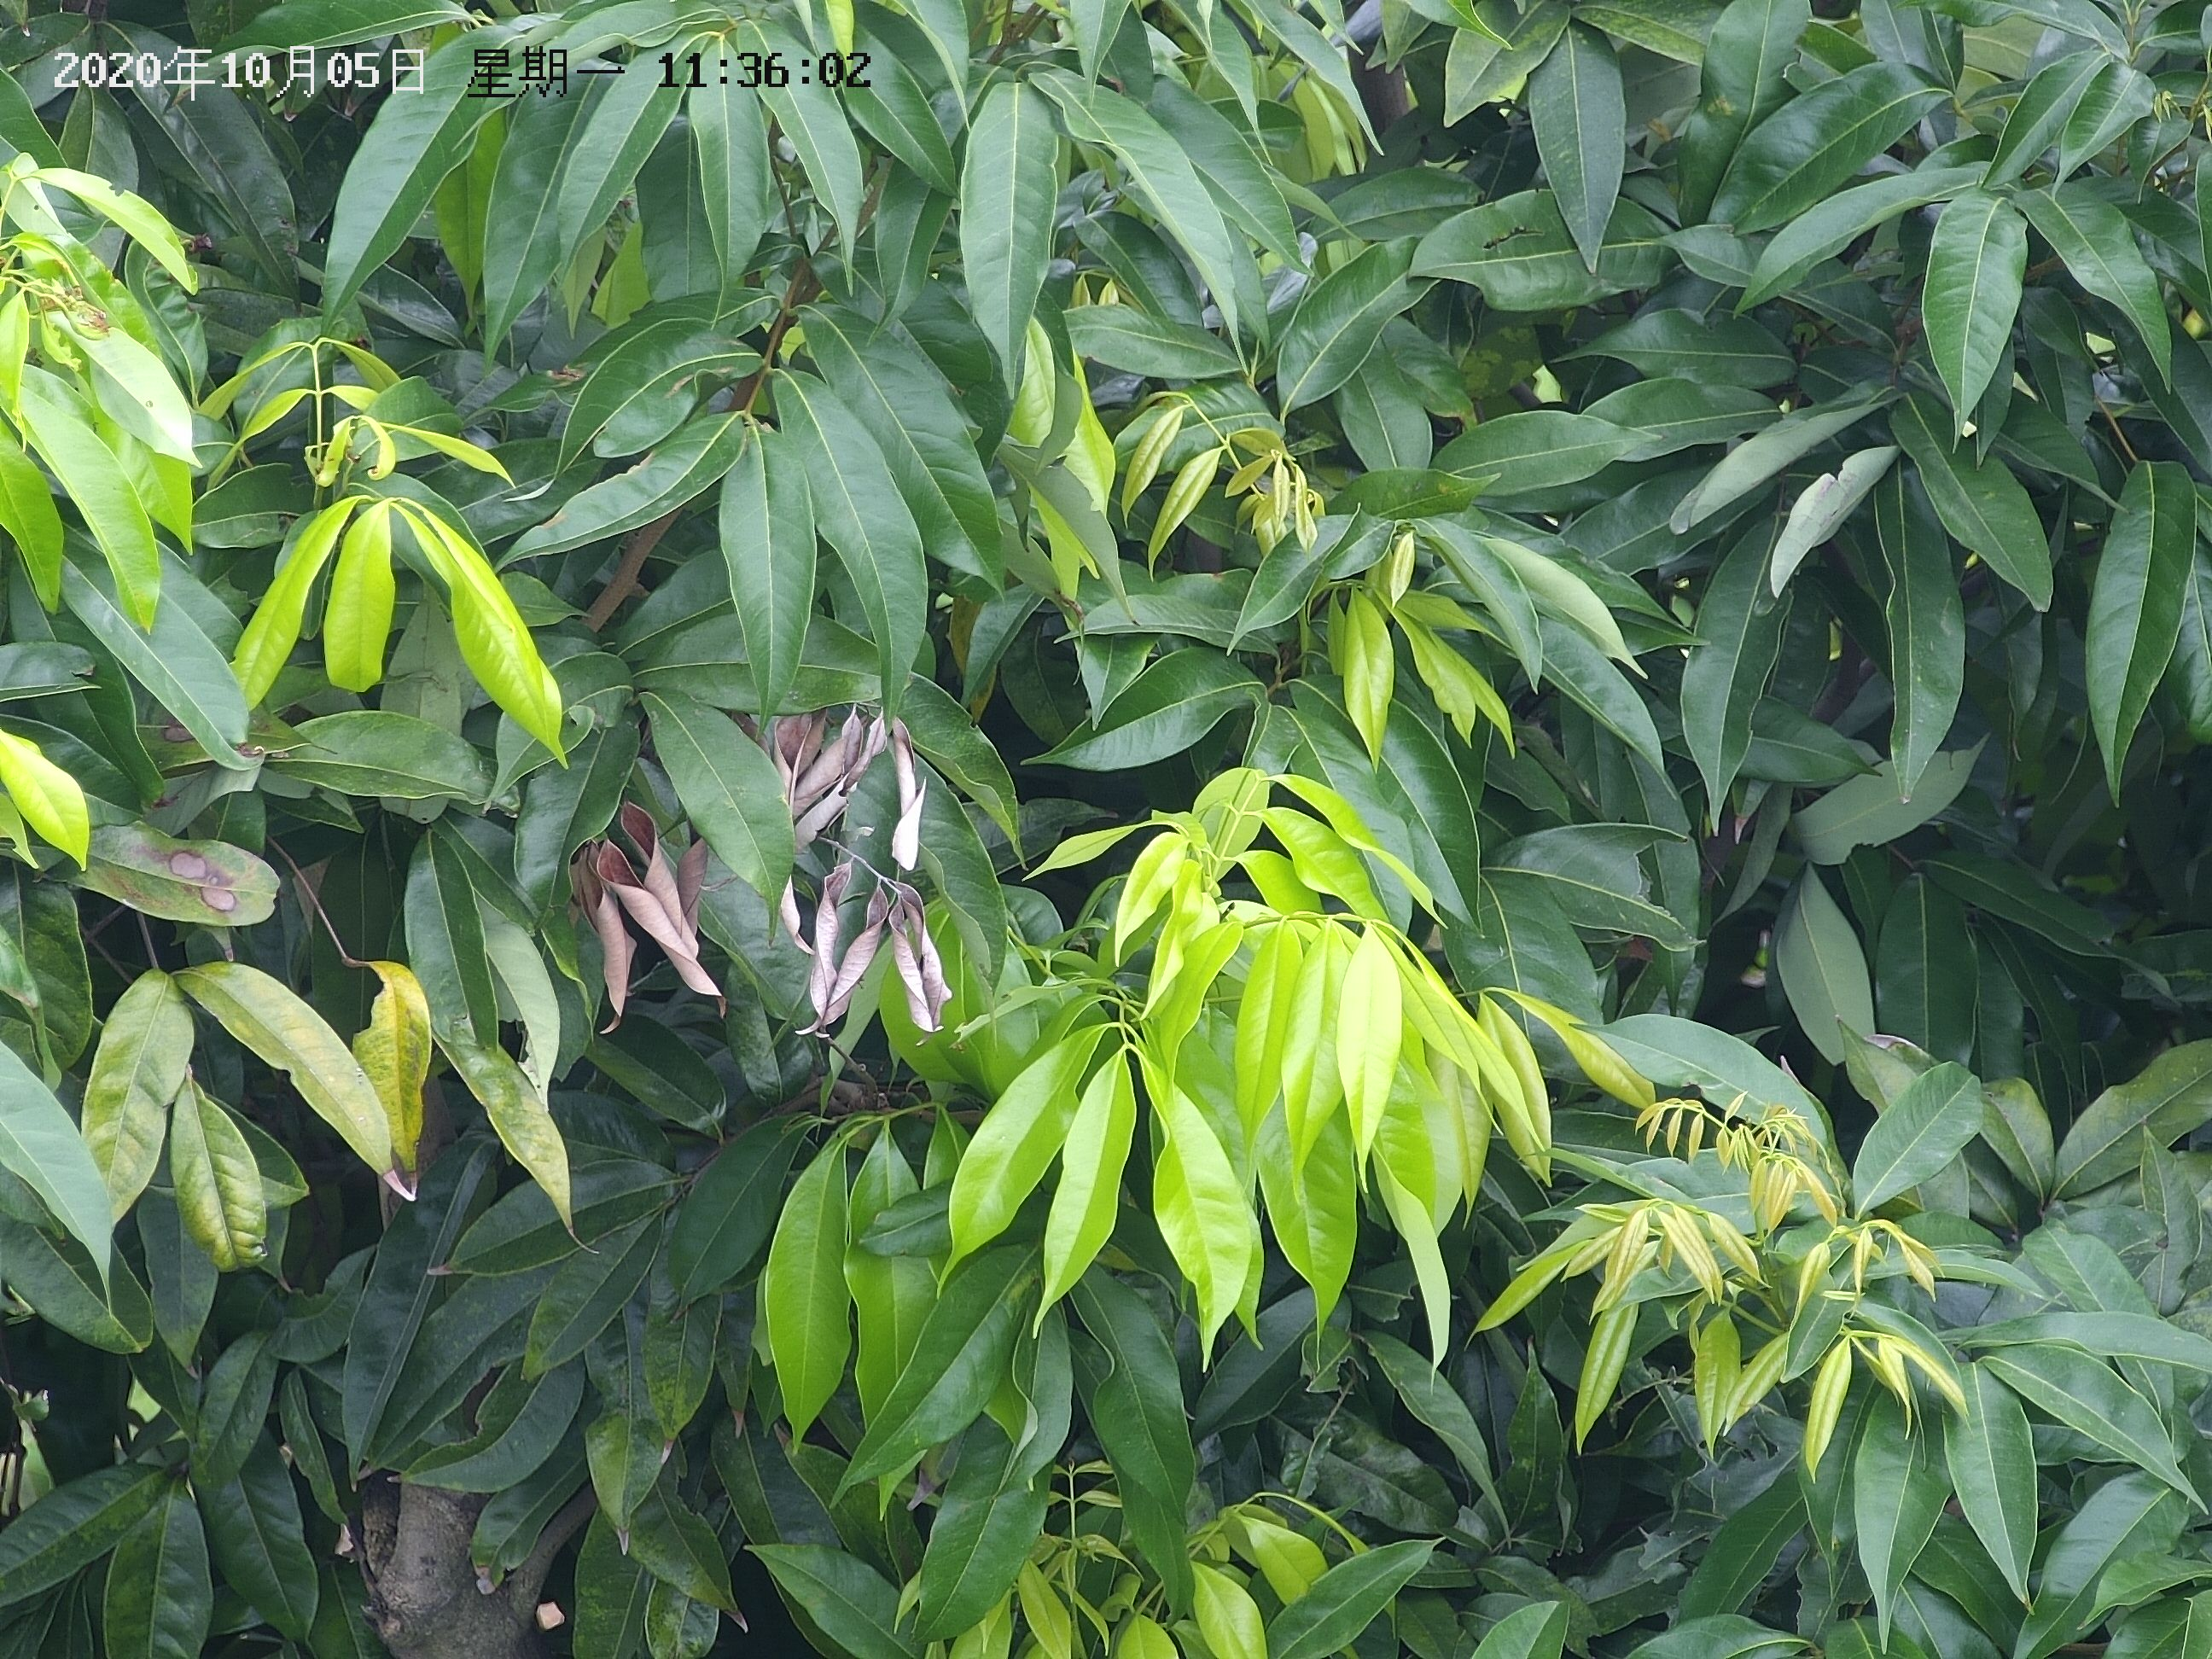新梢生长期: (944, 763, 1590, 1356), (0, 143, 216, 652), (878, 1446, 1379, 1659), (1594, 1209, 1954, 1448), (223, 500, 582, 728), (240, 328, 510, 484), (1338, 575, 1527, 770), (1123, 373, 1318, 554), (1627, 1094, 1841, 1211), (0, 718, 98, 899)
